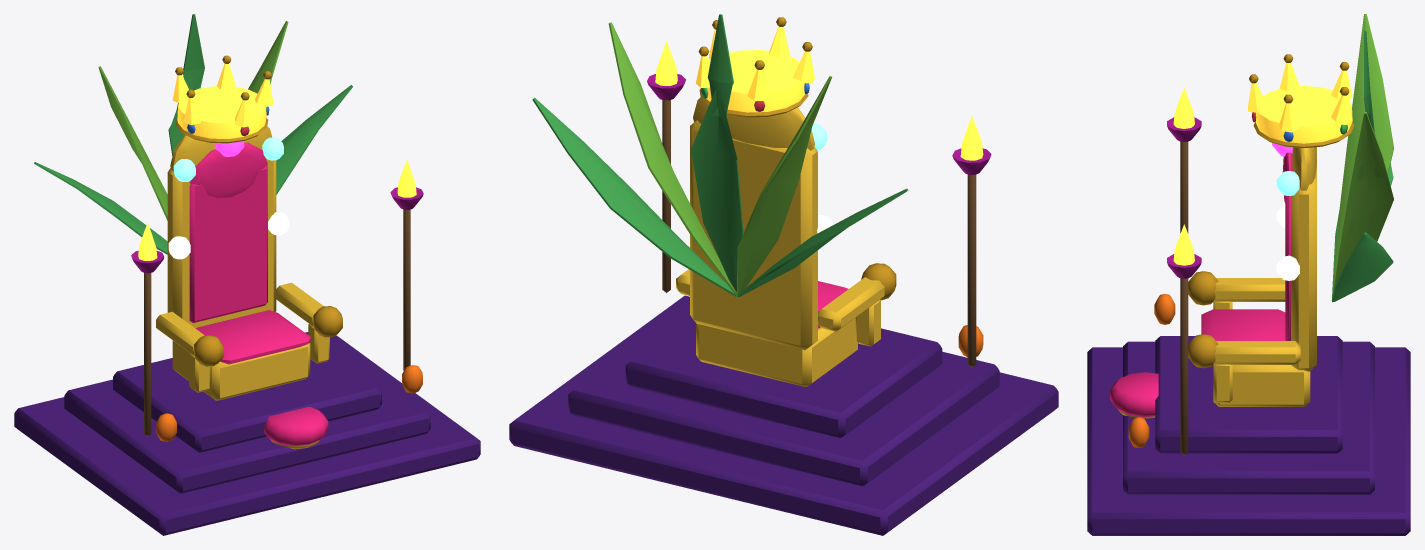
Rendered from W6_Throne.fbx.
3 views of the same model, side by side, from view 1: azimuth 30°, elevation 25°; view 2: azimuth 150°, elevation 25°; view 3: azimuth 270°, elevation 25° (orthographic). The views are drawn at different scales.
Visible parts, largest first — view 1: W6_Throne; view 2: W6_Throne; view 3: W6_Throne.
Part boxes in pixels (x1,y1,x2,y2): W6_Throne: (14,14,480,535); W6_Throne: (509,14,1058,535); W6_Throne: (1087,14,1410,535).
Bounding box in the file's own units: 6.2 × 7.2 × 5.
